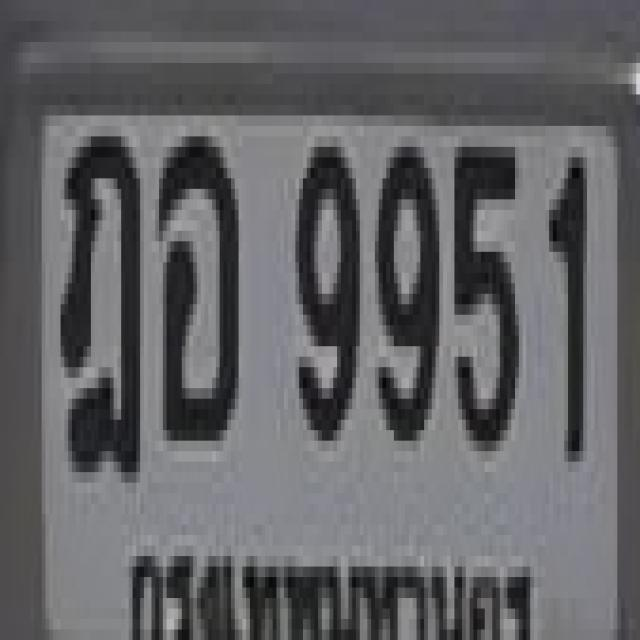1: (546, 147, 584, 451)
5: (451, 136, 515, 441)
9: (292, 137, 356, 430), (375, 137, 435, 430)
A14: (57, 126, 136, 472)
A43: (155, 126, 235, 430)
